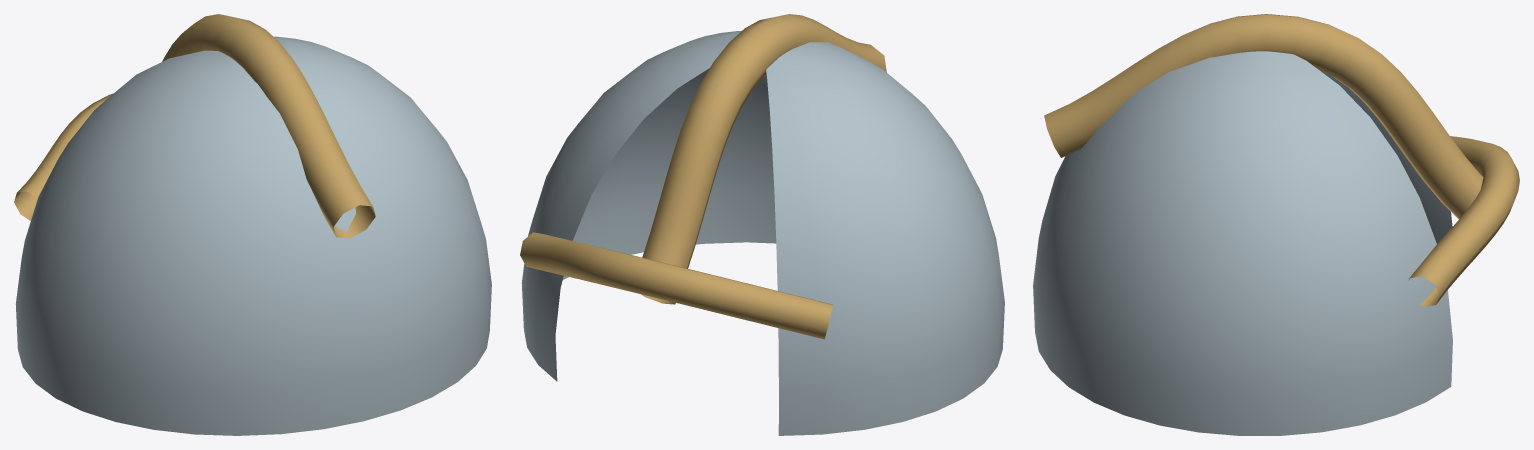
File: steel_helm.glb
3 renders of one model, left to right at view 1: azimuth 30°, elevation 25°; view 2: azimuth 150°, elevation 25°; view 3: azimuth 270°, elevation 25°, orthographic.
Parts seen in each view (by area): view 1: Open faced helm, Crest ridge, Brow band; view 2: Open faced helm, Crest ridge, Brow band; view 3: Open faced helm, Crest ridge, Brow band.
Part boxes in pixels (<box>): Open faced helm: <box>15,36,491,435</box>; Crest ridge: <box>162,14,375,238</box>; Brow band: <box>14,93,113,220</box>; Open faced helm: <box>521,31,1004,435</box>; Crest ridge: <box>641,14,886,304</box>; Brow band: <box>520,232,832,339</box>; Open faced helm: <box>1033,51,1452,435</box>; Crest ridge: <box>1044,14,1483,219</box>; Brow band: <box>1408,136,1519,306</box>.
Size of the model in its own units: 0.6965 by 0.4944 by 0.6867.
